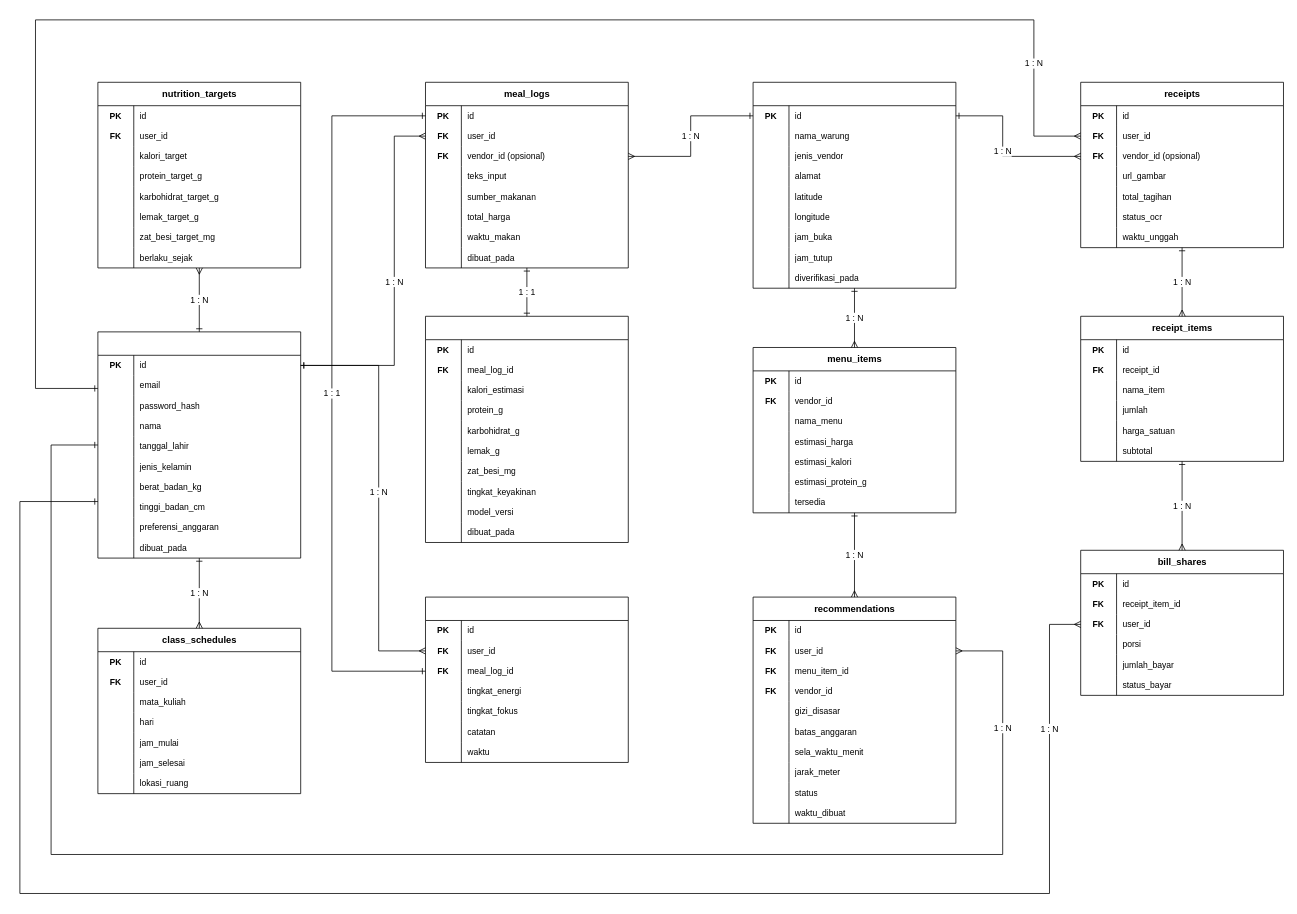
This 1297x914 diagram has some shape labels left out. Each missing label, with the box of its shape:
checkins: (425, 596, 628, 762)
nutrition_estimates: (425, 316, 628, 542)
users: (97, 331, 301, 558)
vendors: (752, 82, 956, 288)
